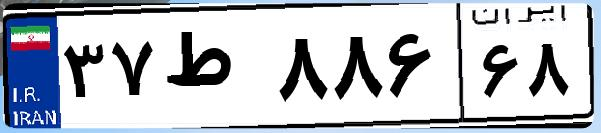3: (57, 26, 110, 100)
6: (385, 28, 445, 110), (475, 38, 525, 113)
7: (110, 28, 158, 98)
8: (270, 28, 330, 110), (330, 28, 385, 110), (525, 38, 570, 115)
ط: (158, 20, 270, 120)
